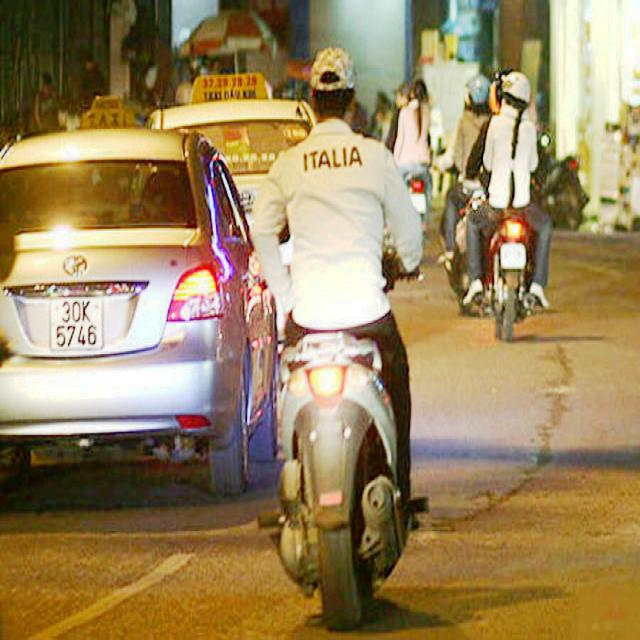license_plate: (49, 299, 104, 353)
